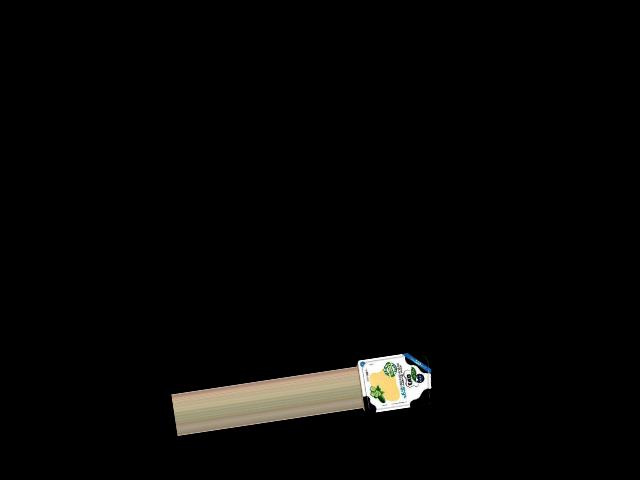cheese: (354, 347, 435, 417)
